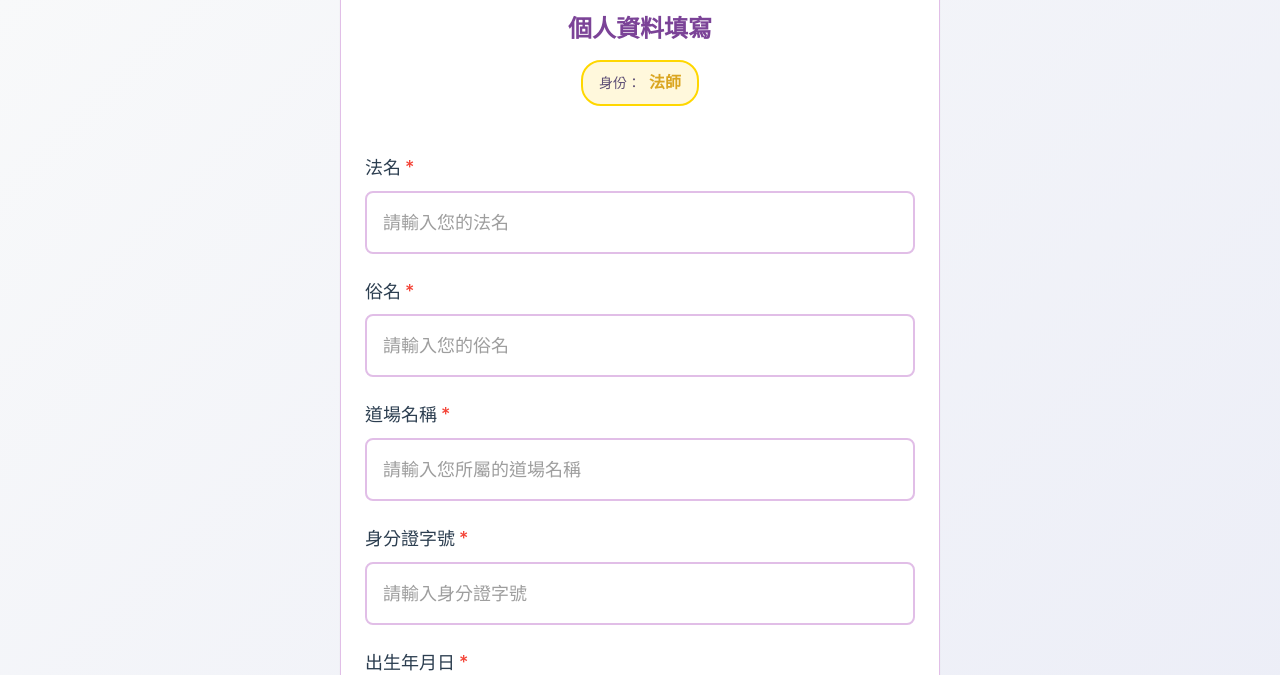
it: PersonalInfoForm › Form Validation › should validate ID number format
This screenshot has width=1280, height=675.
In the field labelled "身分證字號*": [640, 594] box x1=365 y1=562 x2=915 y2=625, type "invalid-id"
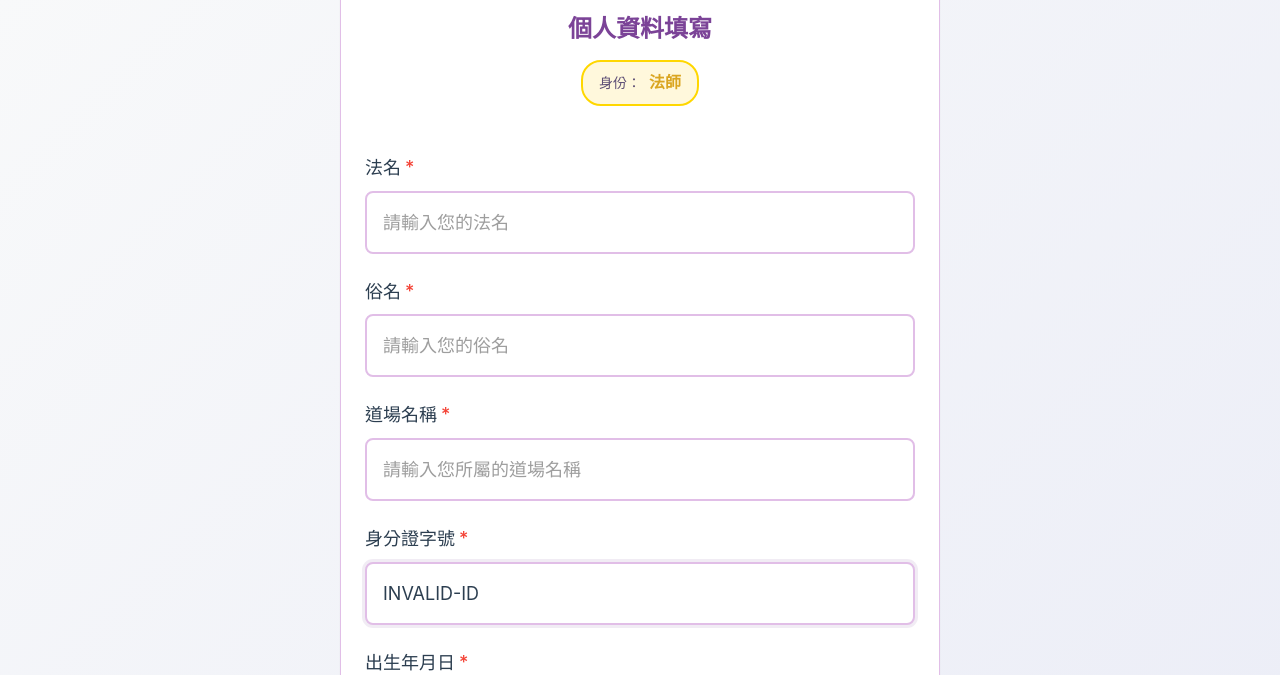
Press Tab
(page scrolled)
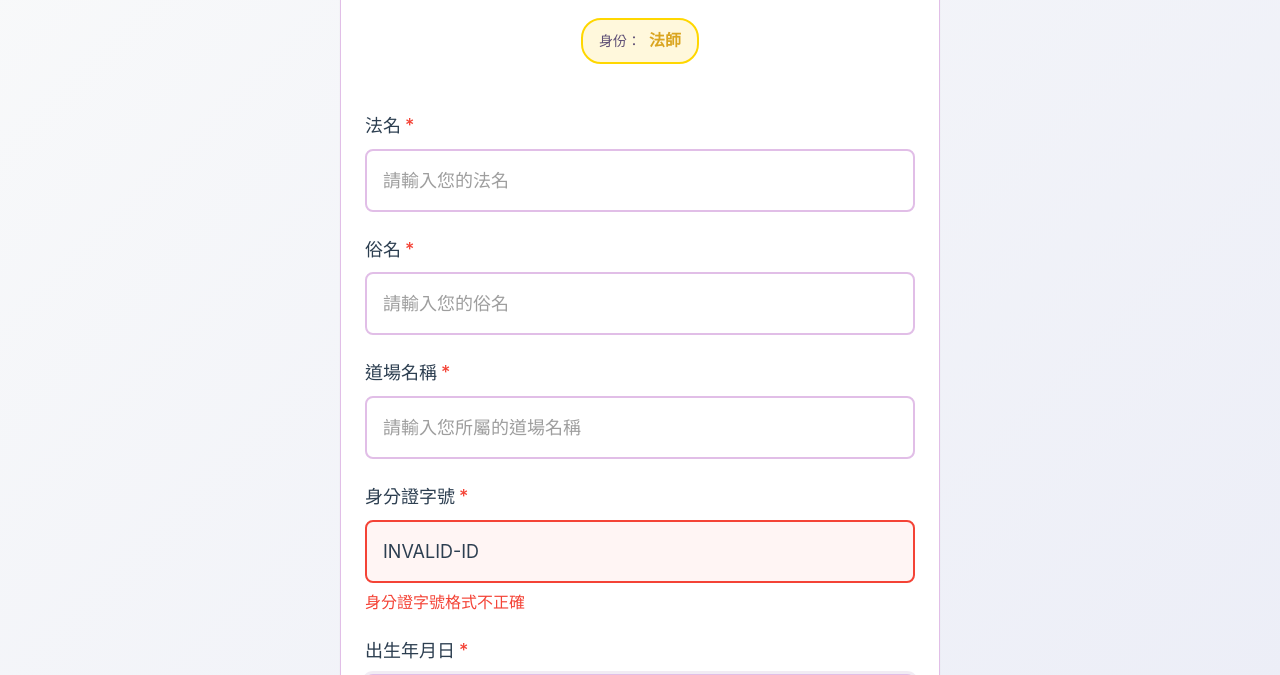
Expected: the text "身分證字號格式不正確" is shown, x1=365 y1=592 x2=525 y2=612
